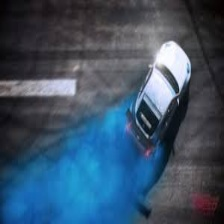smoke: (9, 154, 153, 218)
